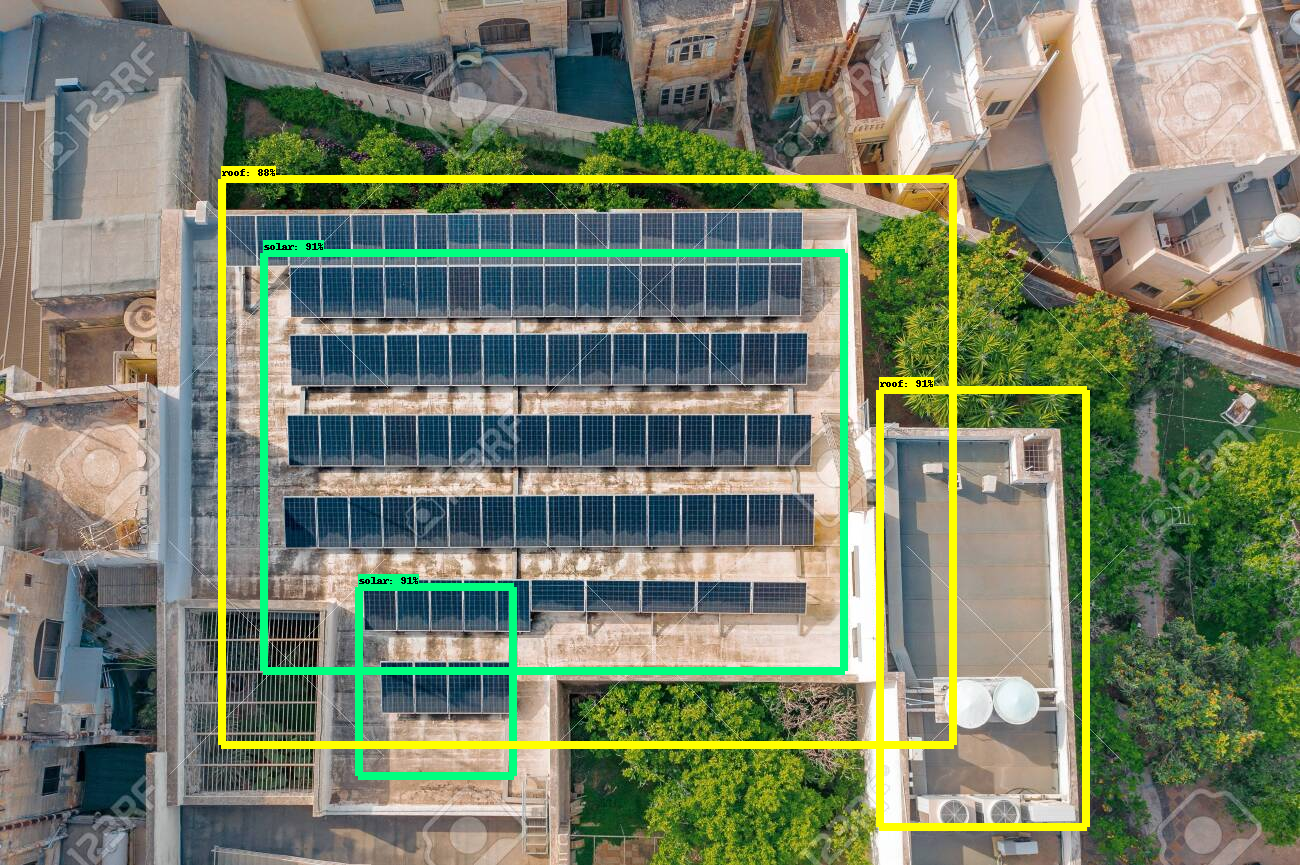solar-panel: (272, 334, 821, 632), (227, 215, 812, 253), (385, 664, 516, 722), (289, 264, 319, 319), (324, 265, 354, 320), (357, 265, 387, 320), (389, 265, 419, 320), (418, 264, 448, 319), (453, 265, 480, 318), (484, 265, 511, 318), (517, 264, 544, 317), (550, 264, 577, 317), (581, 265, 608, 318), (611, 264, 638, 317), (644, 263, 671, 316), (676, 265, 703, 318), (706, 266, 733, 319), (743, 261, 770, 314), (775, 259, 802, 312)
